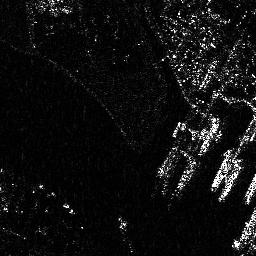ship: (216, 157, 243, 201), (210, 145, 234, 191), (199, 116, 221, 155)
